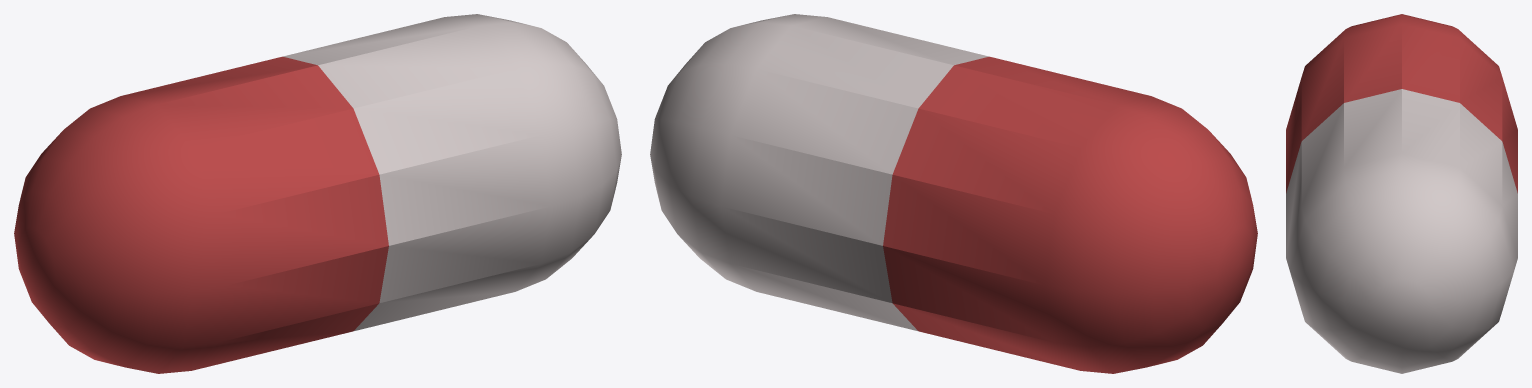
Rendered from pill.fbx.
3 views of the same model, side by side, from view 1: azimuth 30°, elevation 25°; view 2: azimuth 150°, elevation 25°; view 3: azimuth 270°, elevation 25° (orthographic). The views are drawn at different scales.
Visible parts, largest first — view 1: pCylinder1; view 2: pCylinder1; view 3: pCylinder1.
Boxes of the visible parts, <box> form: pCylinder1: <box>14,14,621,373</box>; pCylinder1: <box>650,14,1257,373</box>; pCylinder1: <box>1286,14,1517,373</box>.
Bounding box in the file's own units: 9.09 × 3.92 × 3.92.
